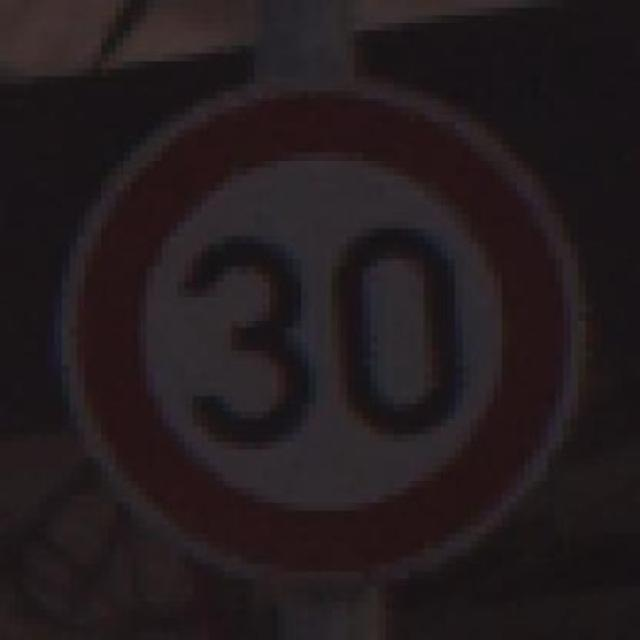Speed Limit 30 KMPh: (8, 68, 624, 594)
